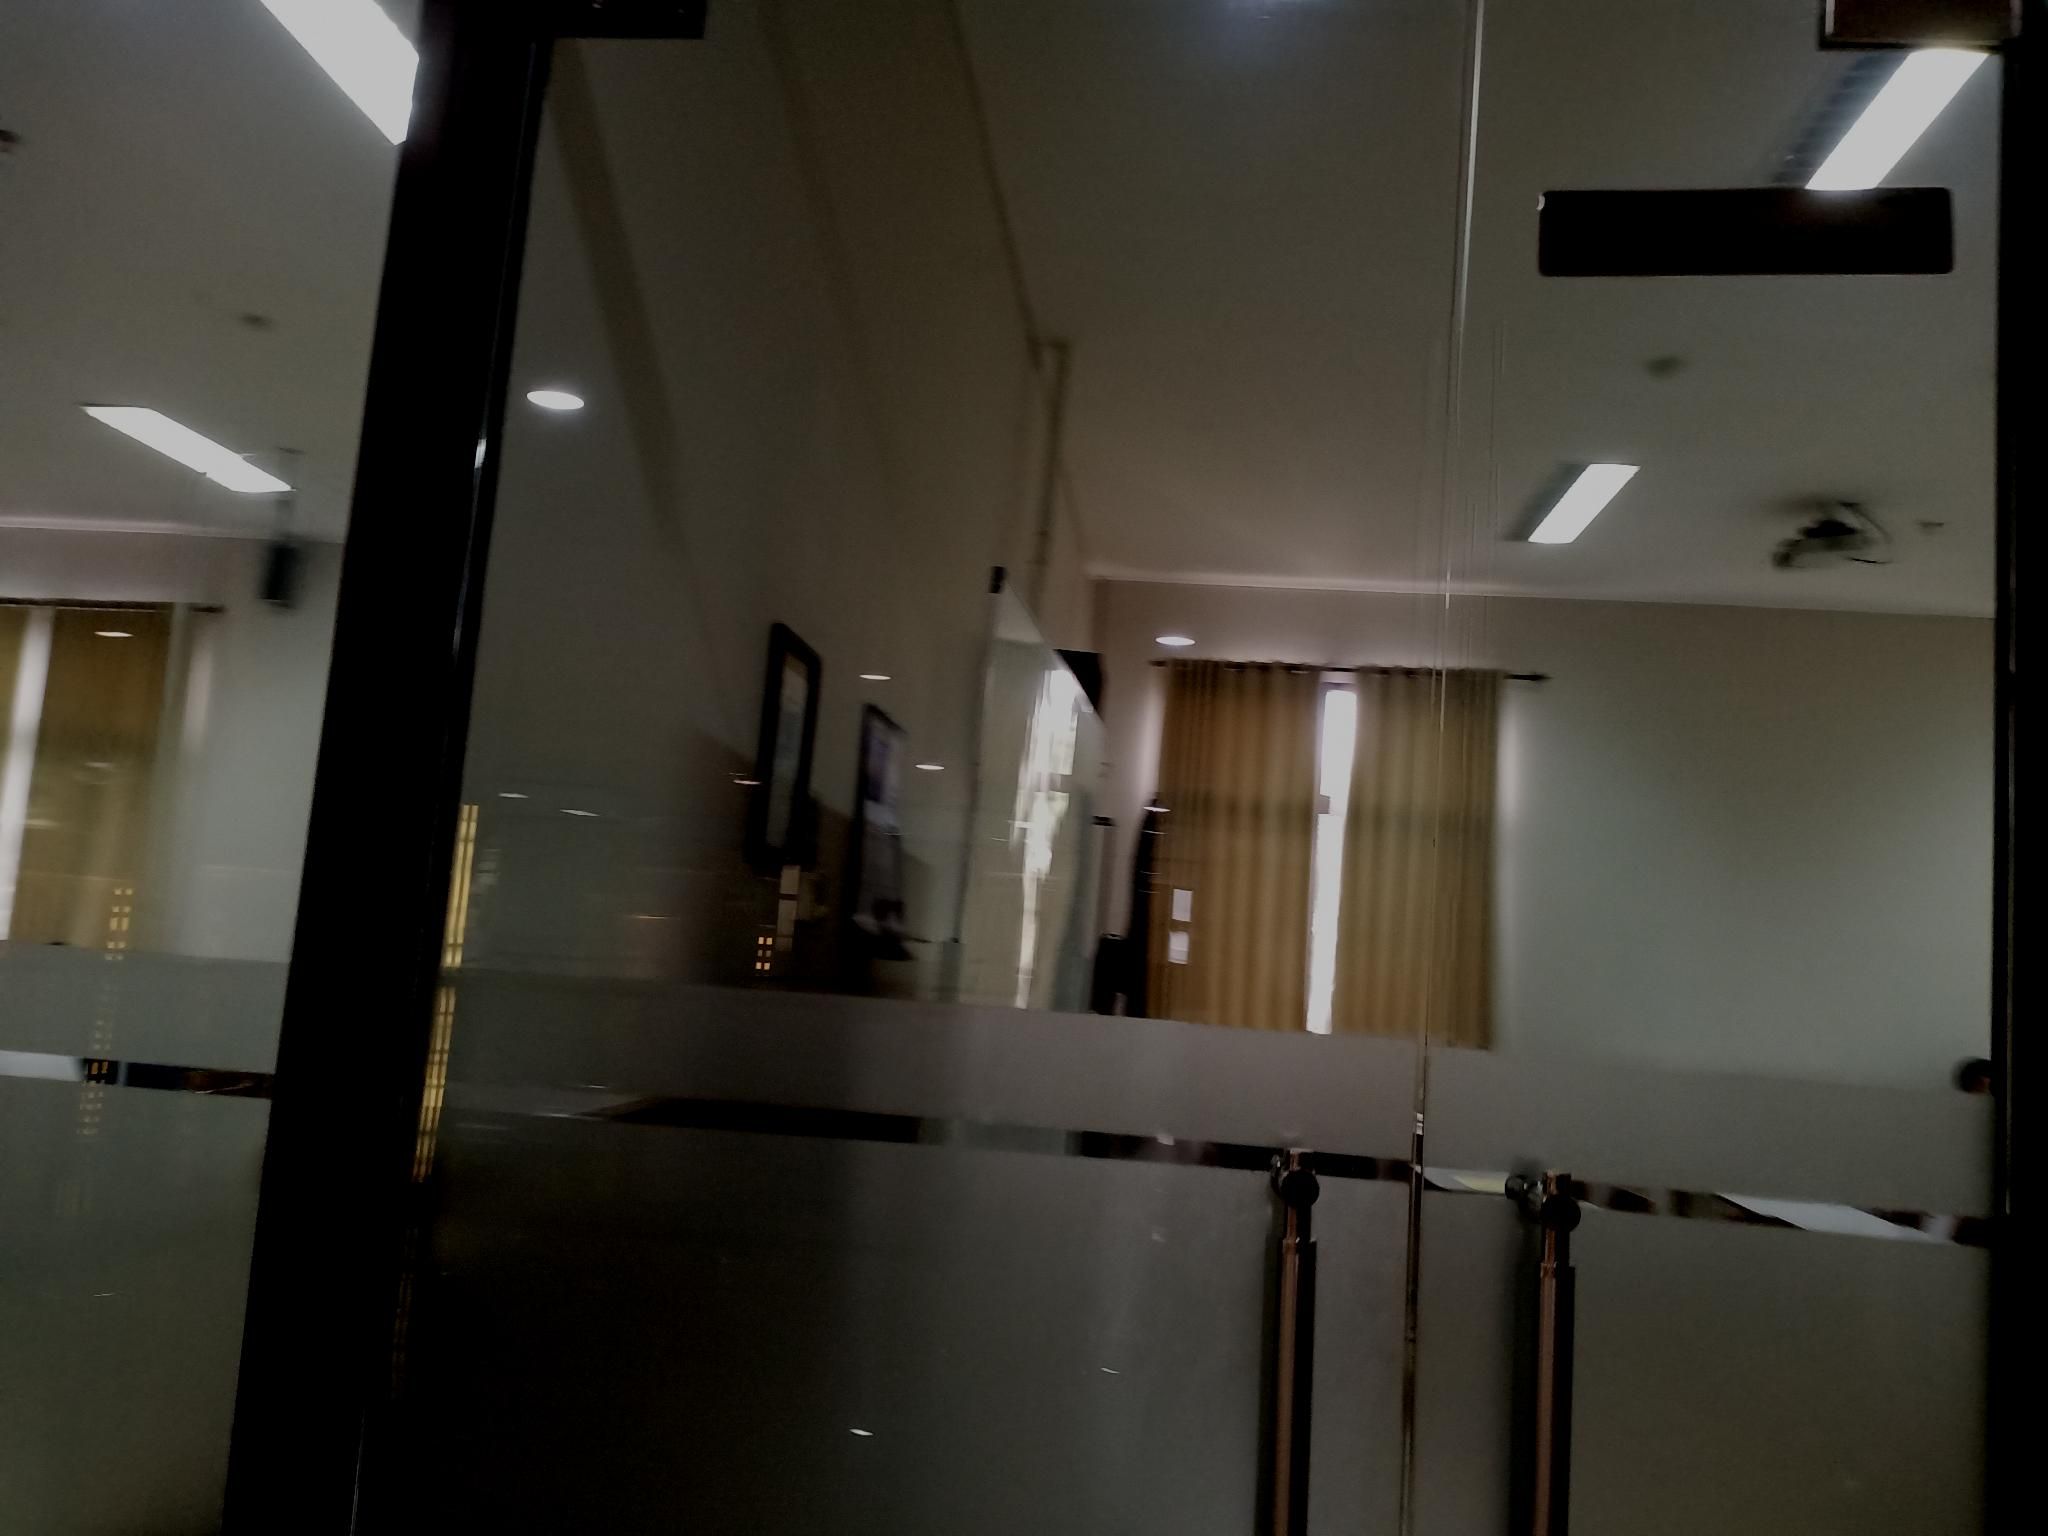plate: (1538, 184, 1955, 277)
